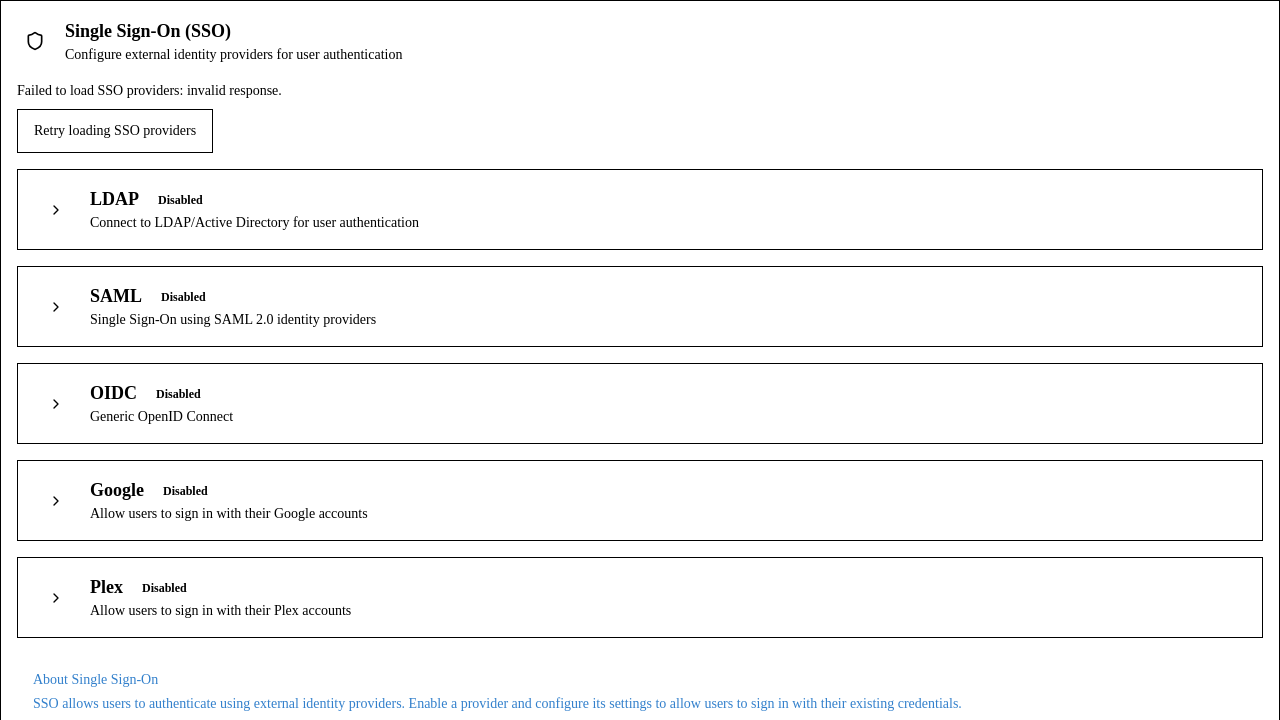
Test: rejects missing/malformed SSO response 0 without claiming saved or crashing
Expected: the message reads "Failed to load SSO providers: invalid response.", left=17, top=83, right=282, bottom=98
Click the heading "Google" at {"x": 117, "y": 490}, box left=90, top=477, right=144, bottom=504
(page scrolled)
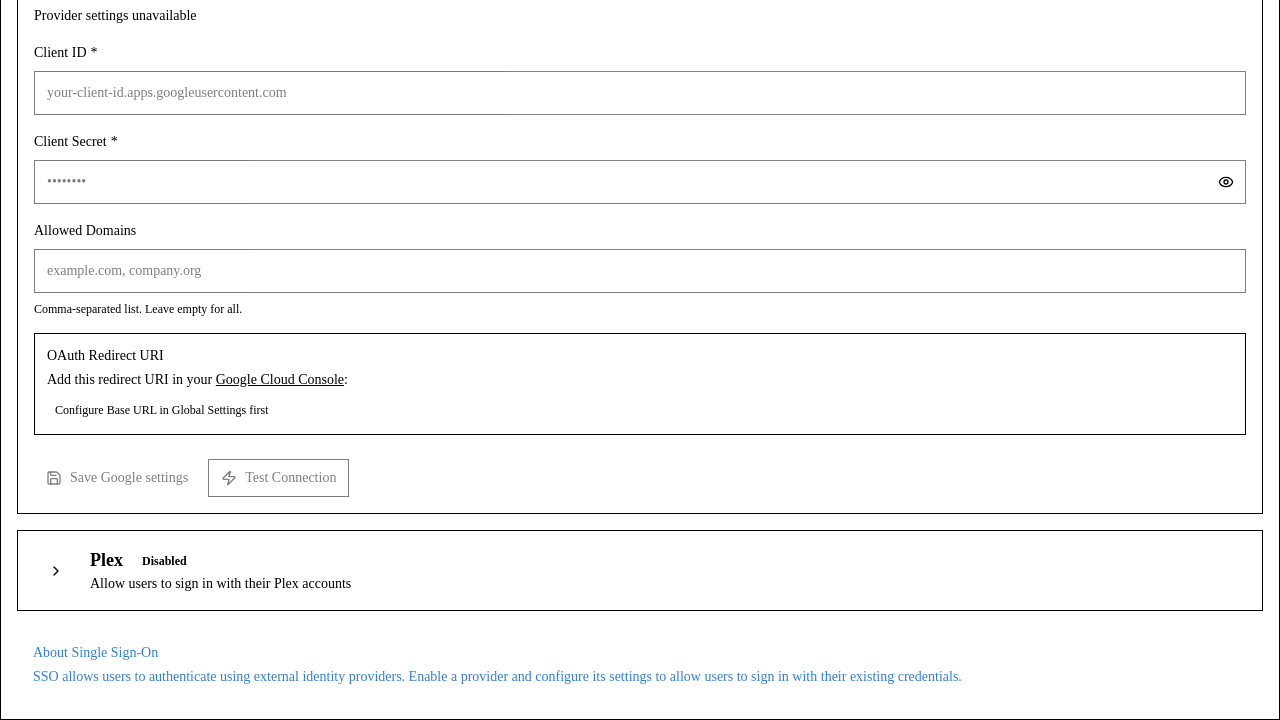
Result: the button "Save Google settings" is disabled at left=34, top=459, right=200, bottom=497
